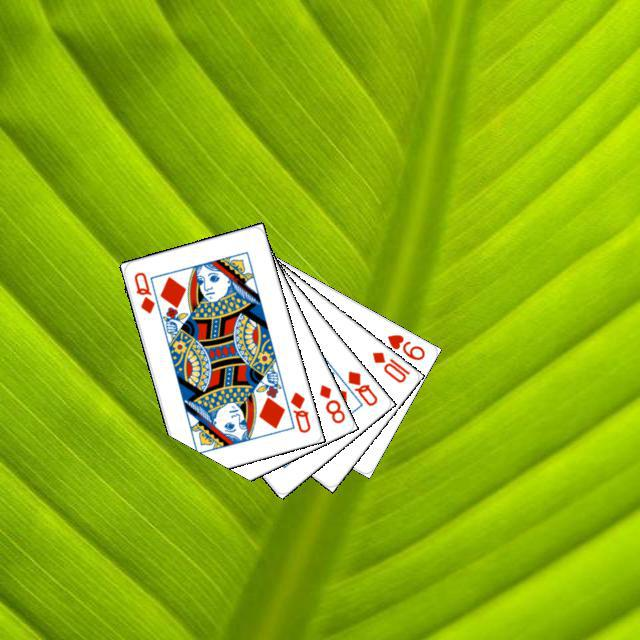10d: (367, 347, 412, 385)
8d: (314, 379, 347, 425)
9h: (382, 329, 427, 362)
Qd: (343, 366, 379, 408), (129, 267, 157, 315), (285, 387, 312, 435)
